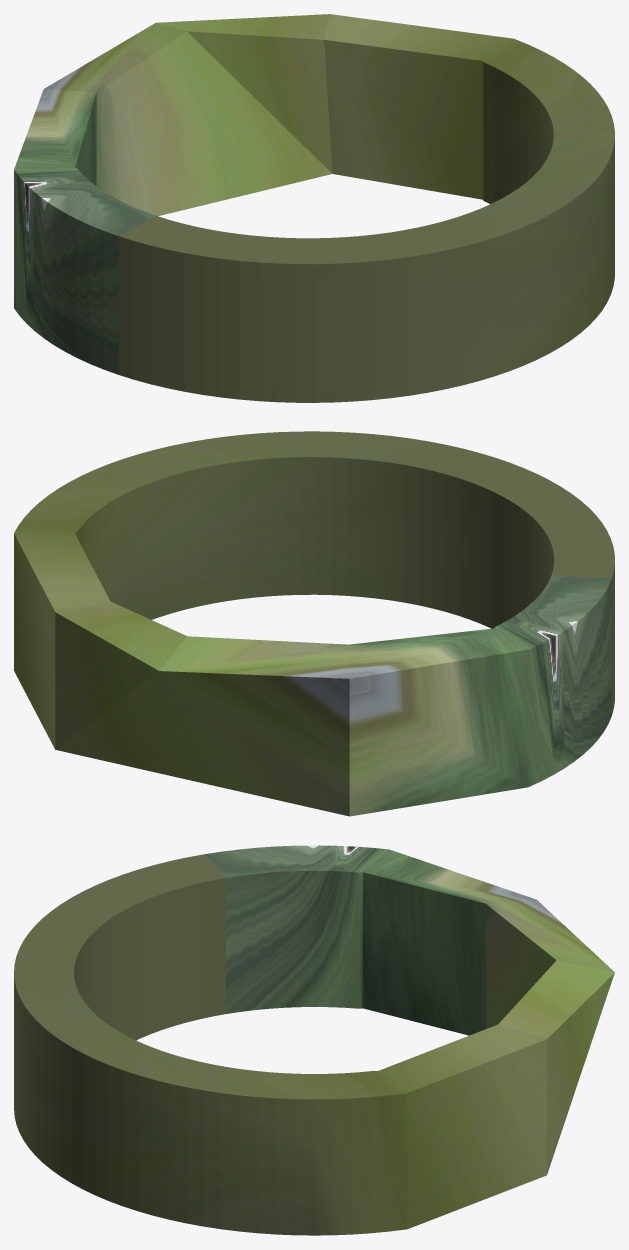
File: gate7.obj
The picture shows the model from 3 angles, top to bottom: view 1: azimuth 30°, elevation 25°; view 2: azimuth 150°, elevation 25°; view 3: azimuth 270°, elevation 25°; orthographic projection.
Visible parts, largest first — view 1: Cylinder; view 2: Cylinder; view 3: Cylinder.
Boxes of the visible parts, x1,y1,x2,y2 form: Cylinder: [14, 14, 614, 402]; Cylinder: [14, 431, 614, 816]; Cylinder: [14, 845, 614, 1235].
Bounding box in the file's own units: 2 × 0.5465 × 2.
